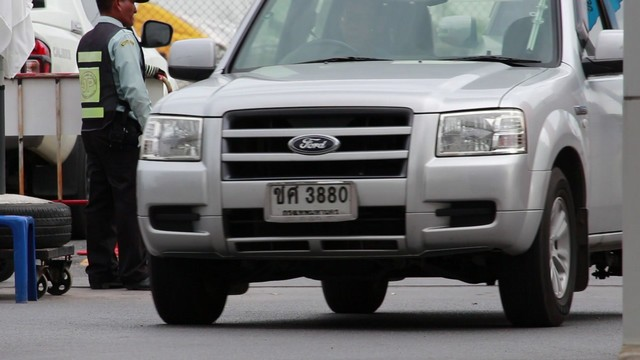in: (271, 185, 351, 215)
out: (263, 180, 359, 221)
